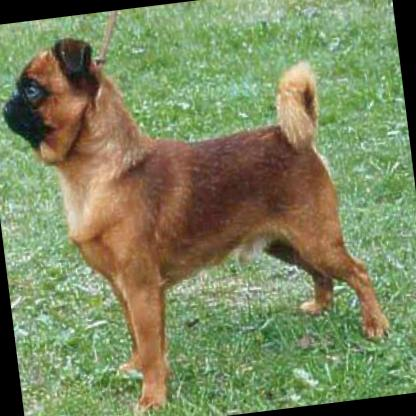Brabancon_griffon: (0, 0, 397, 416)
